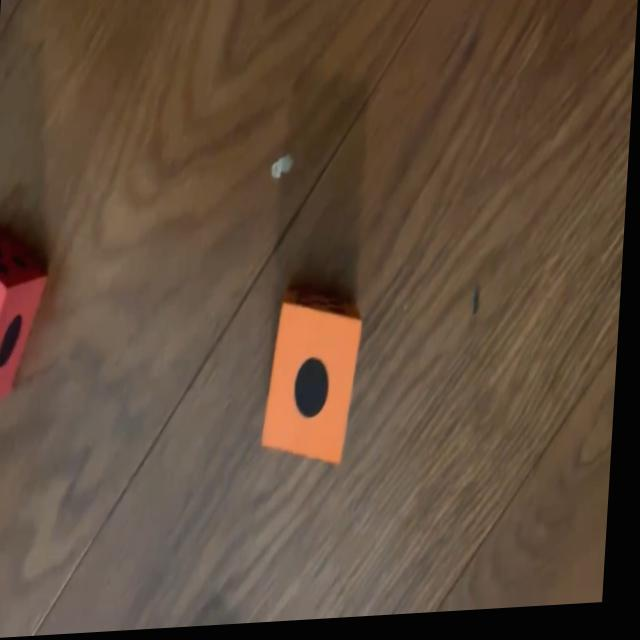red_block: (0, 219, 54, 414)
